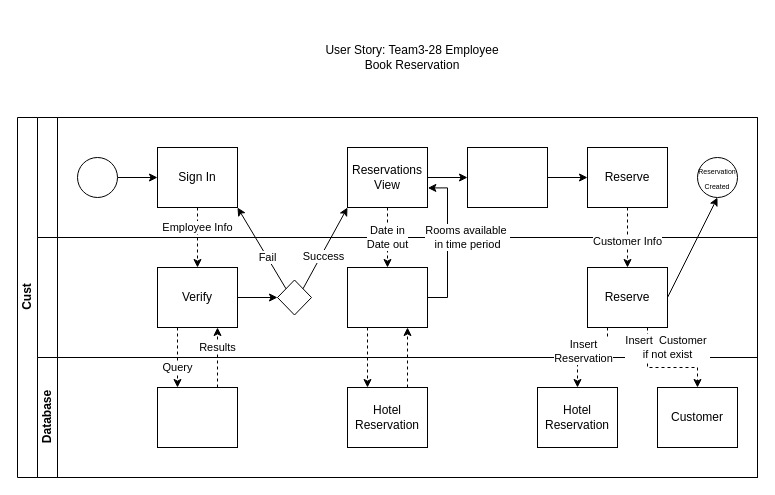
This 775x495 diagram has some shape labels left out. Here are the shapes that lost their labels. From the top down, the box of each, then its label:
(76, 156, 118, 198): login
(36, 116, 758, 238): Employee
(466, 146, 548, 208): Room Chosen
(346, 266, 428, 328): Room Check
(36, 236, 758, 358): Application
(156, 386, 238, 448): Employees
